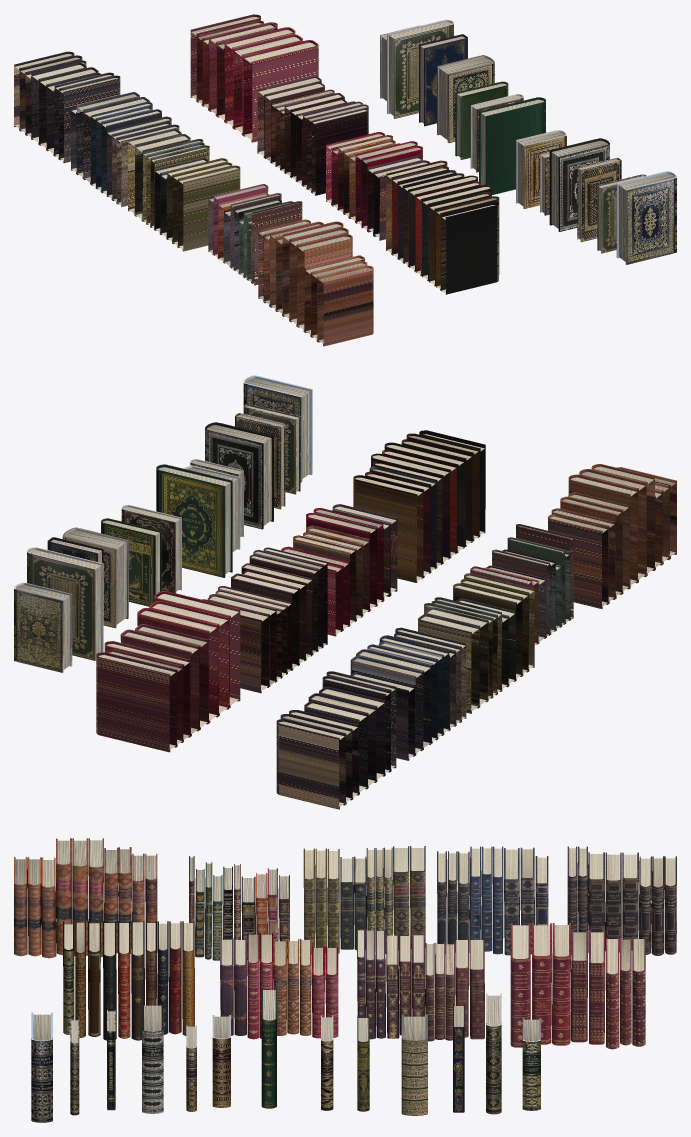
3 views of the same model, one above another, from view 1: azimuth 30°, elevation 25°; view 2: azimuth 150°, elevation 25°; view 3: azimuth 270°, elevation 25° (orthographic). The views are drawn at different scales.
Visible parts, largest first — view 1: Book_pack_1, Book_pack_3, Book_pack_5, Book_pack_7, Book_pack_4, Book_pack_9, Book_pack_8, Book_pack_2, Book_pack_6, Book_11, Book_9, Book_13 (+10 smaller); view 2: Book_pack_5, Book_pack_1, Book_pack_3, Book_pack_9, Book_pack_4, Book_pack_7, Book_pack_8, Book_pack_2, Book_9, Book_pack_6, Book_13, Book_12 (+10 smaller); view 3: Book_pack_5, Book_pack_1, Book_pack_3, Book_pack_4, Book_pack_7, Book_pack_2, Book_pack_8, Book_pack_9, Book_pack_6, Book_8, Book_3, Book_11 (+10 smaller).
Boxes of the visible parts, x1,y1,x2,y2 form: Book_pack_1: [386, 160, 499, 294]; Book_pack_3: [258, 219, 373, 346]; Book_pack_5: [190, 14, 318, 142]; Book_pack_7: [128, 129, 240, 251]; Book_pack_4: [257, 76, 368, 195]; Book_pack_9: [14, 51, 120, 163]; Book_pack_8: [70, 92, 179, 207]; Book_pack_2: [326, 132, 429, 240]; Book_pack_6: [208, 184, 302, 285]; Book_11: [616, 171, 676, 264]; Book_9: [479, 97, 545, 194]; Book_13: [387, 19, 453, 118]; Book_pack_5: [96, 591, 240, 752]; Book_pack_1: [353, 430, 485, 582]; Book_pack_3: [548, 464, 676, 608]; Book_pack_9: [276, 671, 396, 809]; Book_pack_4: [201, 547, 327, 693]; Book_pack_7: [418, 573, 534, 713]; Book_pack_8: [350, 627, 466, 760]; Book_pack_2: [281, 504, 397, 636]; Book_9: [156, 464, 232, 577]; Book_pack_6: [470, 524, 573, 644]; Book_13: [27, 547, 103, 660]; Book_12: [14, 582, 72, 672]; Book_pack_5: [510, 923, 645, 1049]; Book_pack_1: [63, 921, 194, 1040]; Book_pack_3: [14, 838, 157, 958]; Book_pack_4: [357, 929, 484, 1041]; Book_pack_7: [303, 846, 425, 954]; Book_pack_2: [220, 933, 338, 1039]; Book_pack_8: [437, 846, 548, 955]; Book_pack_9: [567, 846, 676, 955]; Book_pack_6: [189, 856, 289, 960]; Book_8: [401, 1014, 427, 1115]; Book_3: [142, 1003, 163, 1113]; Book_11: [31, 1012, 52, 1122].
Size of the model in its own units: 1.39 by 0.2936 by 1.95.
Materials: 44 (44 with a texture image).
